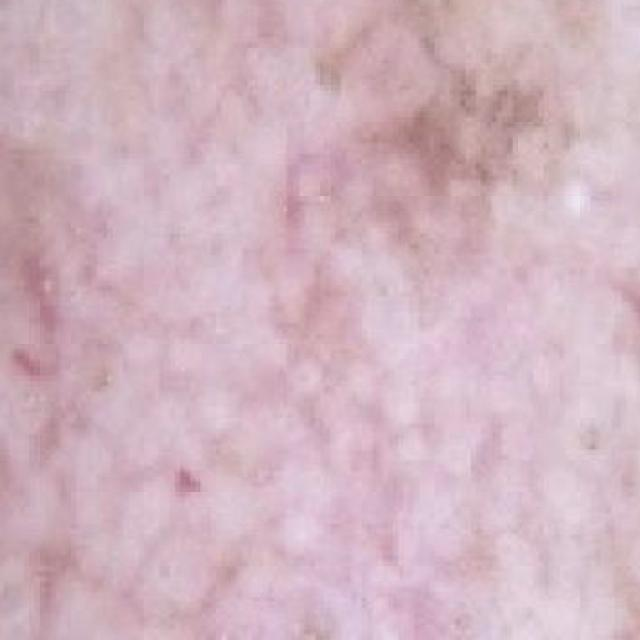AKIEC: (2, 159, 640, 640)
